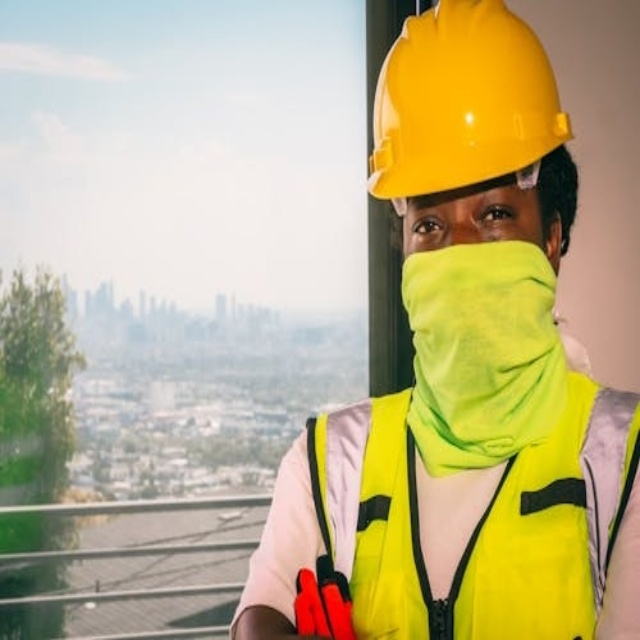Guantes: (294, 559, 356, 639)
Mascara: (400, 238, 569, 470)
Sin_gafas: (407, 196, 538, 246)
